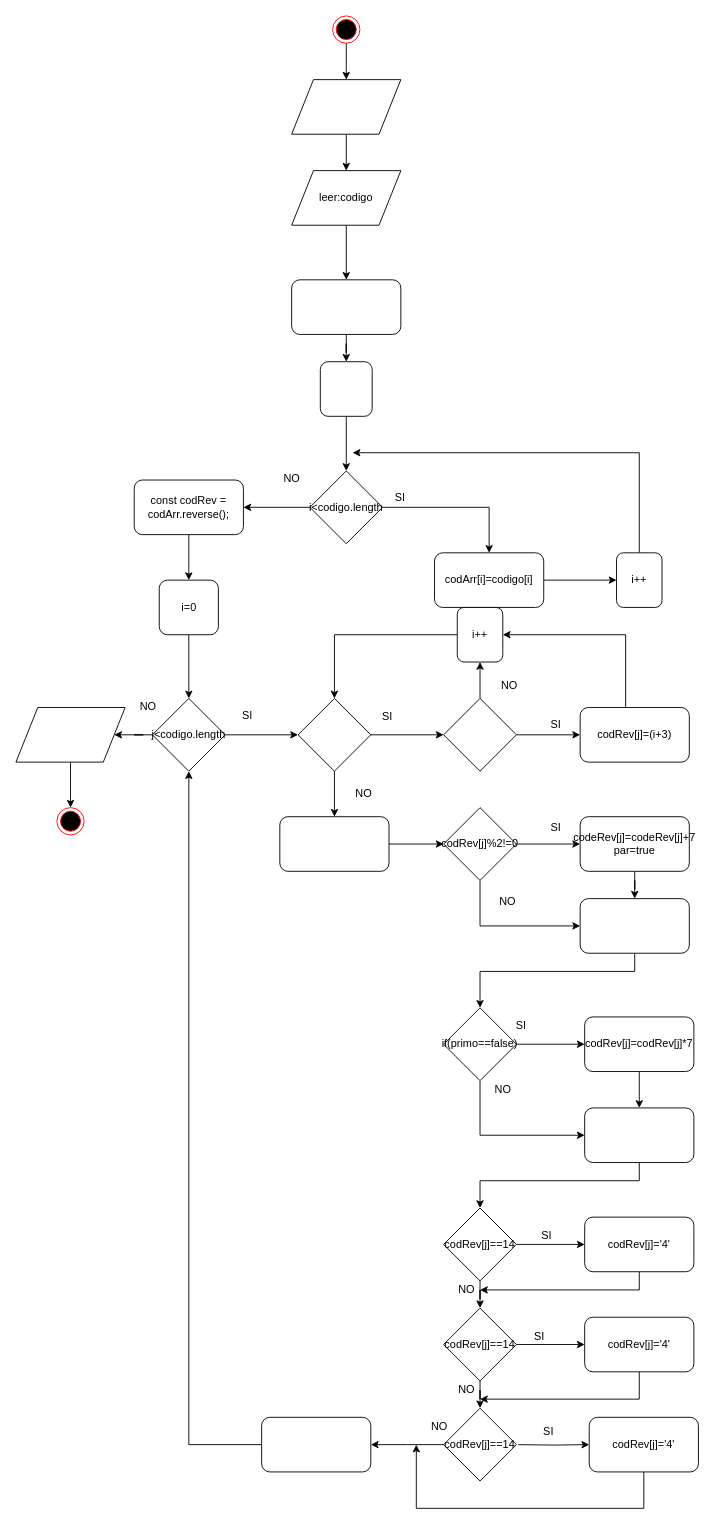
Some shapes in this 714 by 1532 pixel diagram are drawn without their labels. Each missing label, with the centre of its shape:
"boolPar[j]=par valor=codRev[j] primo=esPrimo(valor)" goes at pixel 634 925.
"boolPrim[j]=primo" goes at pixel 639 1135.
"codRev[j]==abc[i]" goes at pixel 479 734.
"ercribir:'dame el codigo a encriptar'" goes at pixel 346 106.
"escribir:codRev" goes at pixel 70 734.
"i<abc,lenght" goes at pixel 334 734.
"i=0,j=0" goes at pixel 345 388.
"j++" goes at pixel 316 1444.
"let codigo, abc, codArr, abcArr, primo, boolPrim,boolPar,par" goes at pixel 346 306.
"par=false" goes at pixel 334 843.
